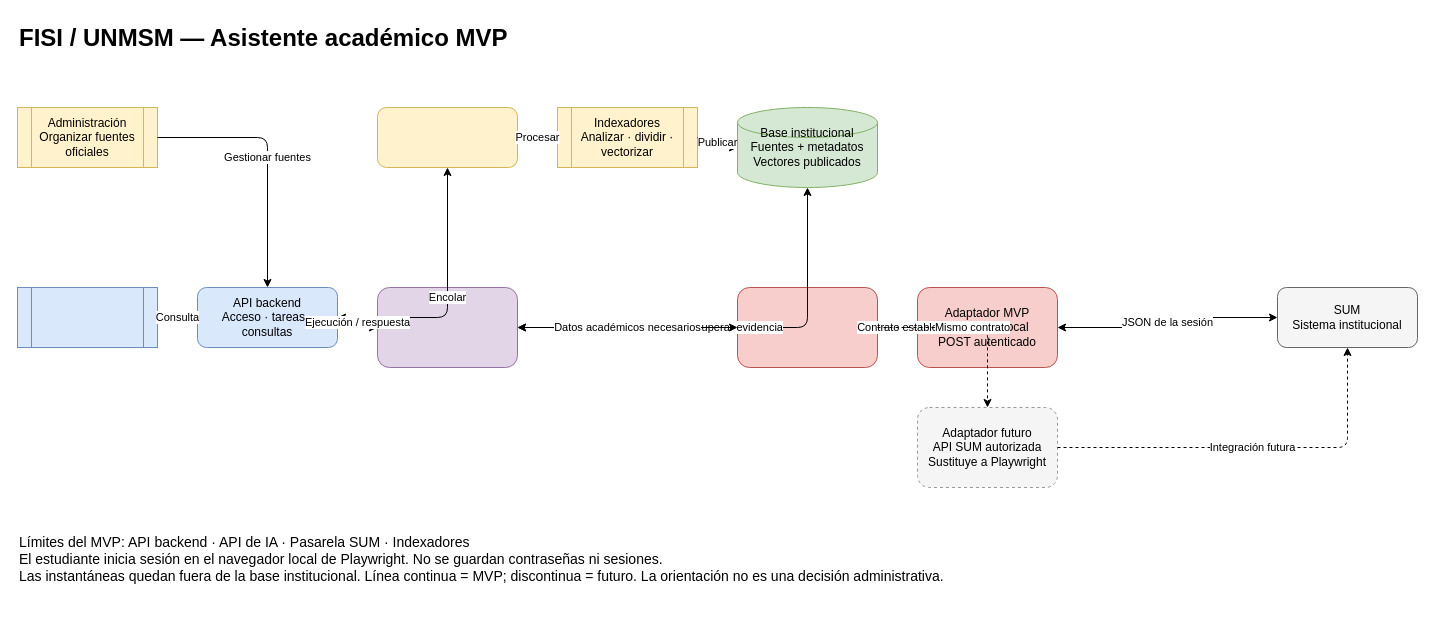
This 1435x634 diagram has some shape labels left out. The shapes that lost their labels are listed below. From the top down, each one's centre as x and y in pixels, then its label:
At (447,137): "Cola durable Trabajos de indexación".
At (87,317): "Interfaz estudiantil Consultas + citas".
At (447,327): "API de IA Coordinación acotada RAG + reglas".
At (807,327): "Pasarela de contexto académico Minimizar · normalizar Instantánea privada".
